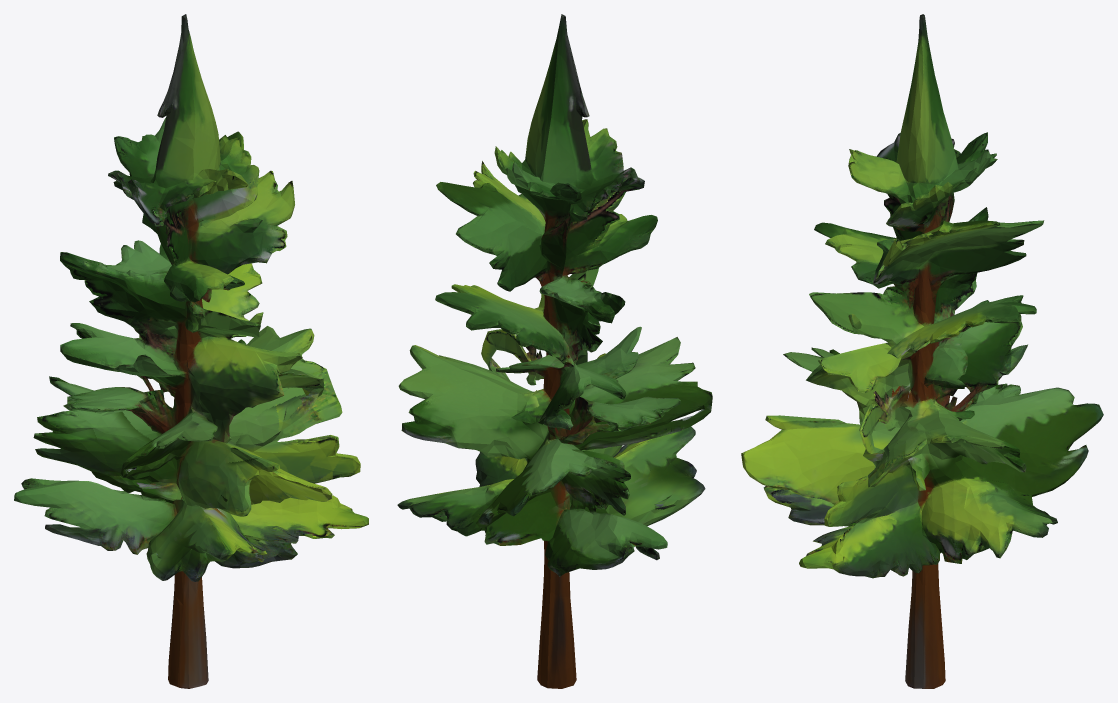
Rendered from Pine_2.glb.
The picture shows the model from 3 angles, left to right: view 1: azimuth 30°, elevation 25°; view 2: azimuth 150°, elevation 25°; view 3: azimuth 270°, elevation 25°; orthographic projection.
Visible parts, largest first — view 1: geometry_0; view 2: geometry_0; view 3: geometry_0.
Boxes of the visible parts, left/top/right/bottom form: geometry_0: left=14, top=14, right=368, bottom=688; geometry_0: left=397, top=14, right=712, bottom=688; geometry_0: left=741, top=14, right=1103, bottom=688.
Size of the model in its own units: 0.4343 by 1 by 0.4943.
Materials: 1 (1 with a texture image).
